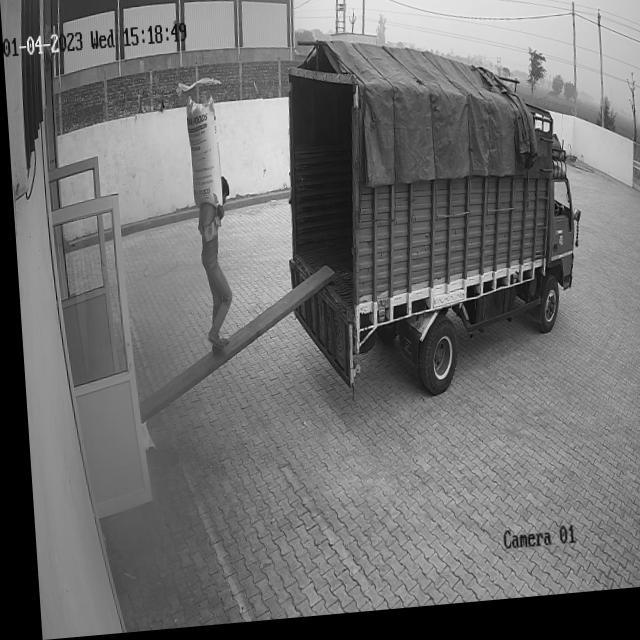sack: (184, 95, 220, 216)
